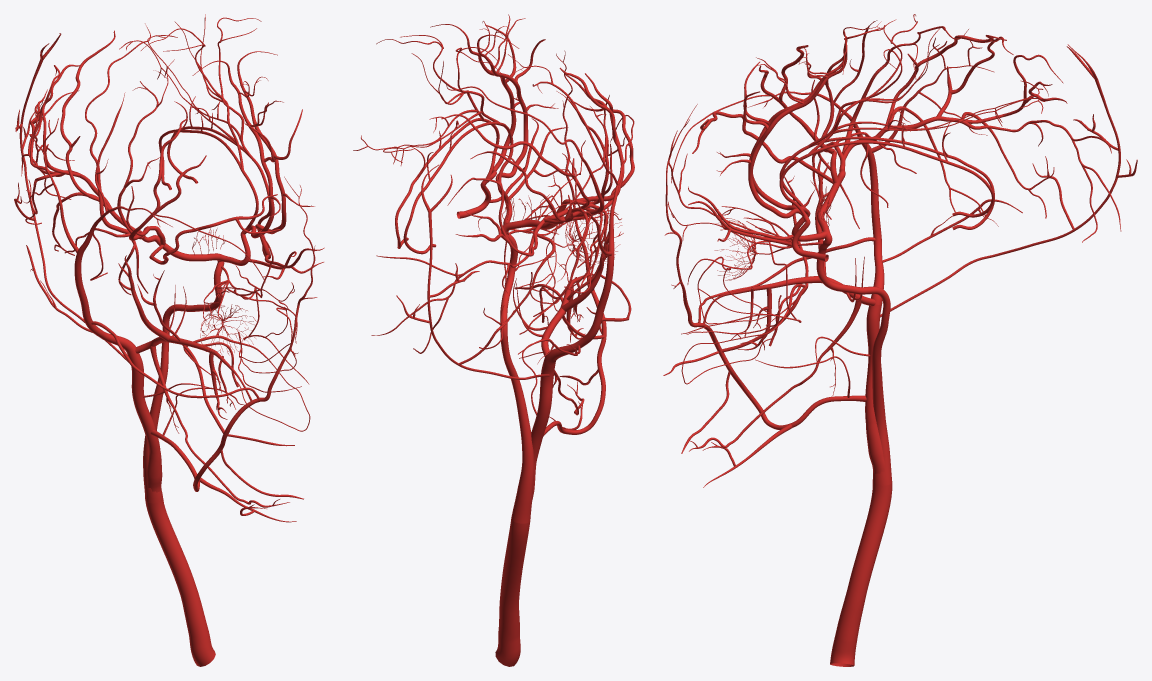
File: circulatorio-right-common-carotid-artery.glb
The picture shows the model from 3 angles, left to right: view 1: azimuth 30°, elevation 25°; view 2: azimuth 150°, elevation 25°; view 3: azimuth 270°, elevation 25°; orthographic projection. The views are drawn at different scales.
Visible parts, largest first — view 1: Right common carotid artery, Superficial temporal artery.r, Internal carotid artery.r, Pericallosal artery.r, External carotid artery.r, Pericallosal artery.l, Occipital artery.r, Callosomarginal artery.r, Callosomarginal artery.l, Maxillary artery.r, Prefrontal artery.r, Artery of precentral sulcus.r (+13 smaller); view 2: Right common carotid artery, Internal carotid artery.r, Superficial temporal artery.r, Pericallosal artery.r, Pericallosal artery.l, Occipital artery.r, External carotid artery.r, Callosomarginal artery.r, Callosomarginal artery.l, Facial artery.r, Artery of precentral sulcus.r, Prefrontal artery.r (+13 smaller); view 3: Right common carotid artery, Superficial temporal artery.r, Internal carotid artery.r, Pericallosal artery.l, Pericallosal artery.r, Occipital artery.r, External carotid artery.r, Callosomarginal artery.l, Facial artery.r, Maxillary artery.r, Callosomarginal artery.r, Inferior alveolar artery.r (+8 smaller).
Part boxes in pixels (bbox=[...]): Right common carotid artery: bbox=[145, 499, 215, 666]; Superficial temporal artery.r: bbox=[22, 92, 172, 354]; Internal carotid artery.r: bbox=[143, 262, 224, 503]; Pericallosal artery.r: bbox=[119, 21, 258, 229]; External carotid artery.r: bbox=[127, 353, 162, 492]; Pericallosal artery.l: bbox=[147, 14, 270, 224]; Occipital artery.r: bbox=[14, 33, 128, 362]; Callosomarginal artery.r: bbox=[192, 60, 280, 238]; Callosomarginal artery.l: bbox=[237, 51, 314, 234]; Maxillary artery.r: bbox=[135, 336, 235, 419]; Prefrontal artery.r: bbox=[129, 118, 206, 240]; Artery of precentral sulcus.r: bbox=[117, 59, 174, 239]; Right common carotid artery: bbox=[495, 518, 530, 666]; Internal carotid artery.r: bbox=[500, 232, 534, 523]; Superficial temporal artery.r: bbox=[518, 91, 631, 365]; Pericallosal artery.r: bbox=[383, 47, 513, 254]; Pericallosal artery.l: bbox=[353, 35, 499, 248]; Occipital artery.r: bbox=[396, 164, 549, 379]; External carotid artery.r: bbox=[515, 361, 555, 501]; Callosomarginal artery.r: bbox=[477, 18, 558, 187]; Callosomarginal artery.l: bbox=[430, 14, 519, 184]; Facial artery.r: bbox=[543, 313, 606, 436]; Artery of precentral sulcus.r: bbox=[508, 54, 612, 204]; Prefrontal artery.r: bbox=[559, 67, 624, 204]; Right common carotid artery: bbox=[830, 483, 892, 666]; Superficial temporal artery.r: bbox=[747, 20, 1022, 304]; Internal carotid artery.r: bbox=[816, 240, 892, 485]; Pericallosal artery.l: bbox=[779, 43, 1043, 229]; Pericallosal artery.r: bbox=[779, 14, 1043, 217]; Occipital artery.r: bbox=[880, 44, 1137, 317]; External carotid artery.r: bbox=[865, 304, 884, 473]; Callosomarginal artery.l: bbox=[716, 51, 847, 221]; Facial artery.r: bbox=[710, 334, 866, 429]; Maxillary artery.r: bbox=[731, 276, 875, 350]; Callosomarginal artery.r: bbox=[717, 29, 847, 214]; Inferior alveolar artery.r: bbox=[698, 301, 861, 448].
Bounding box in the file's own units: 0.1047 × 0.2908 × 0.1916.
